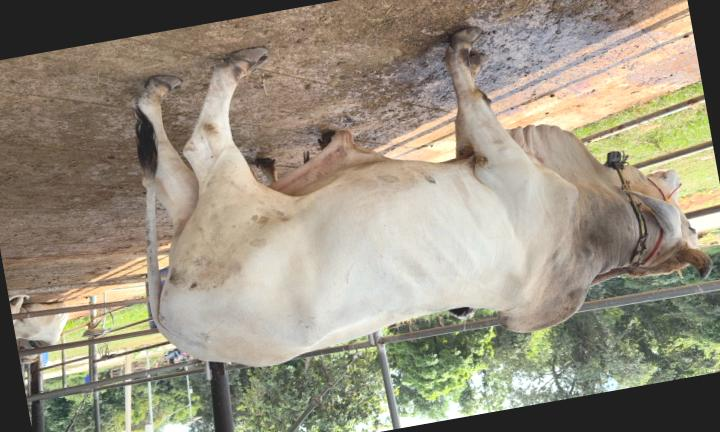Brahman: (134, 28, 711, 367)
